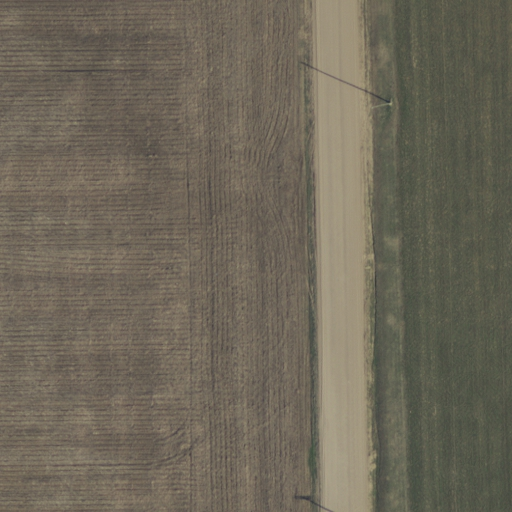DT: (365, 95, 398, 118)
